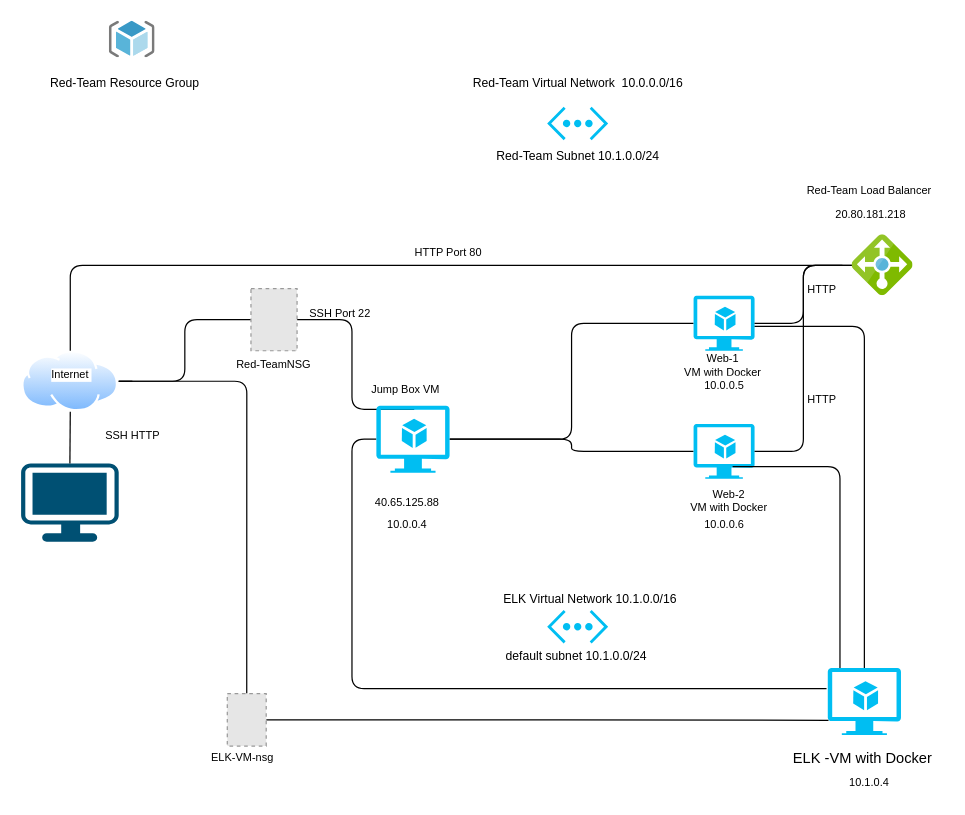
Some shapes in this 965 by 815 pixel diagram are drawn without their labels. Grey dashed boxes stand in for pictures. Each missing label, with the centre of its shape:
"Local Workstation" goes at [69,502].
"VM with Ansible" goes at [412,438].
